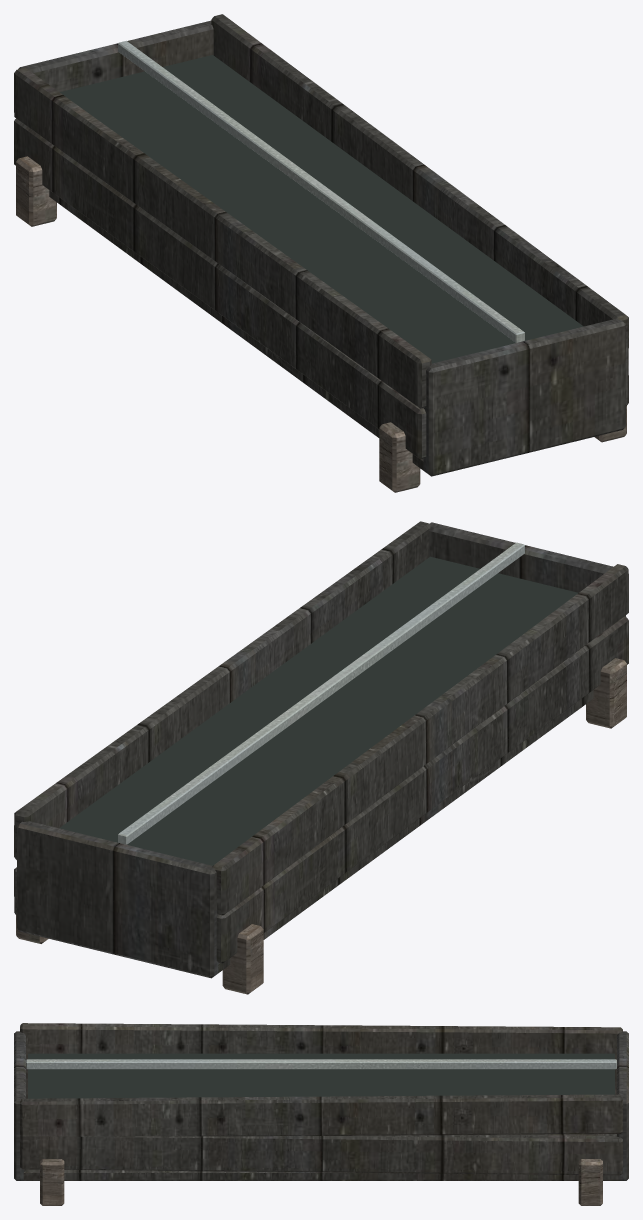
The model's file is sheep_trough_a.glb.
The picture shows the model from 3 angles, top to bottom: view 1: azimuth 30°, elevation 25°; view 2: azimuth 150°, elevation 25°; view 3: azimuth 270°, elevation 25°; orthographic projection. The views are drawn at different scales.
Visible parts, largest first — view 1: sheep_trough_a_LOD0; view 2: sheep_trough_a_LOD0; view 3: sheep_trough_a_LOD0.
Boxes of the visible parts, box(x1,y1,x2,y2) form: sheep_trough_a_LOD0: box(14, 14, 628, 492); sheep_trough_a_LOD0: box(14, 521, 628, 994); sheep_trough_a_LOD0: box(14, 1023, 628, 1205).
Size of what is drawn, in the model's own units: 0.5 by 0.2857 by 1.53.
Materials: 4 (3 with a texture image).
